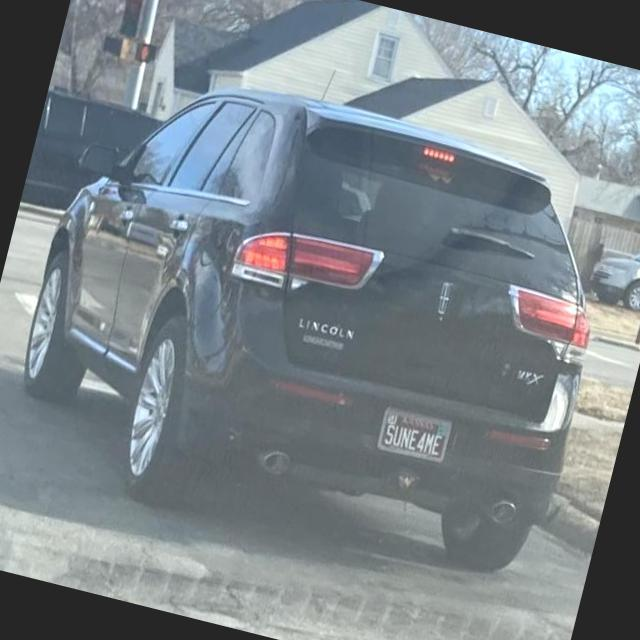license-plate: (376, 407, 469, 475)
